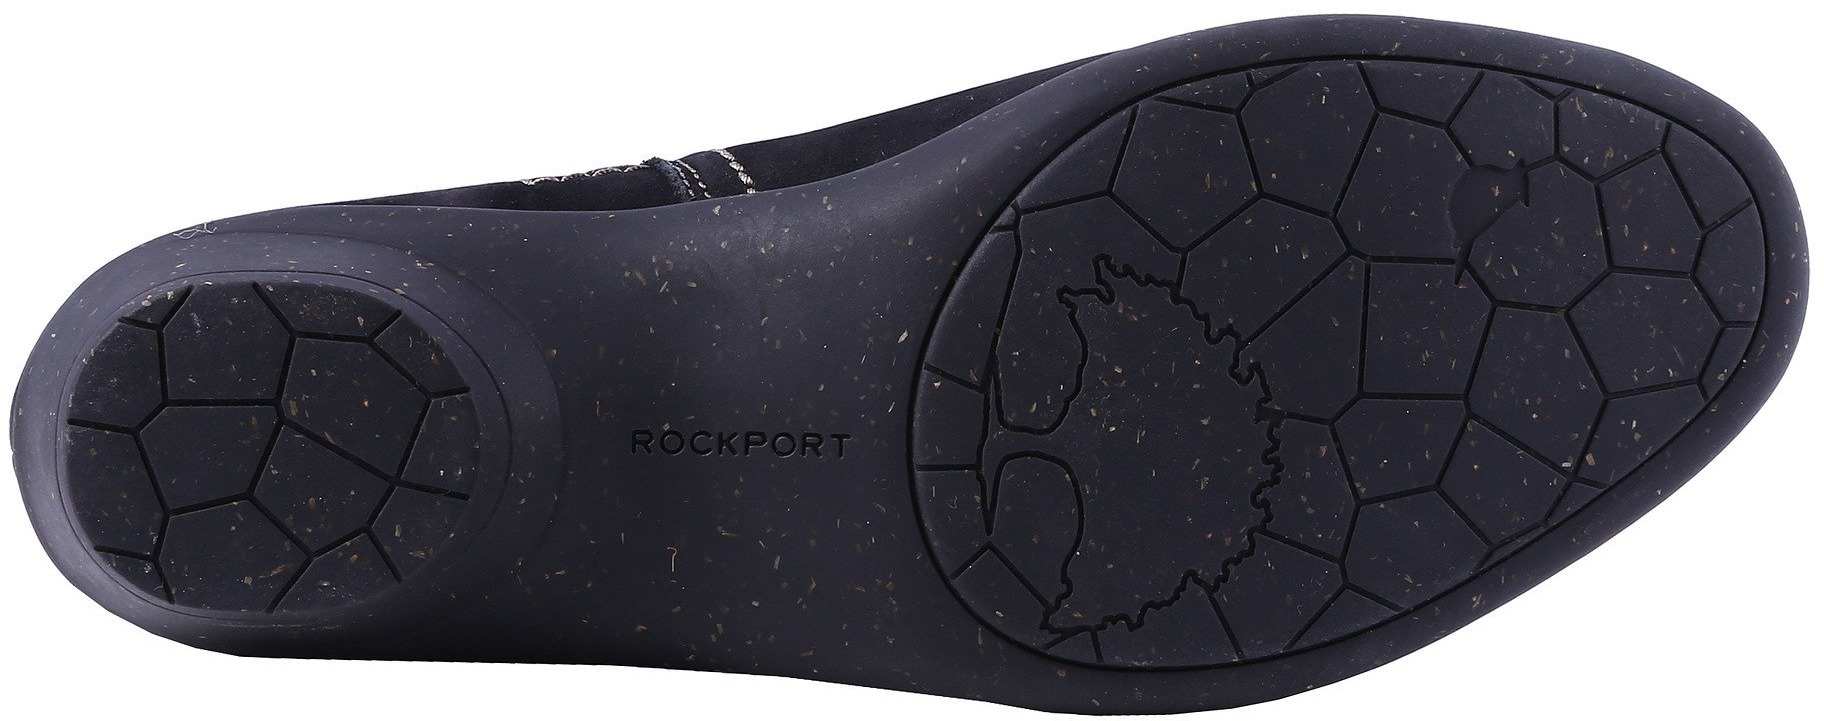other: (957, 252, 1326, 627), (1425, 141, 1569, 290)
polygon: (1358, 259, 1499, 397), (1570, 273, 1722, 399), (1328, 393, 1474, 501)
text: (606, 381, 897, 501), (744, 387, 863, 494), (620, 397, 750, 490)
